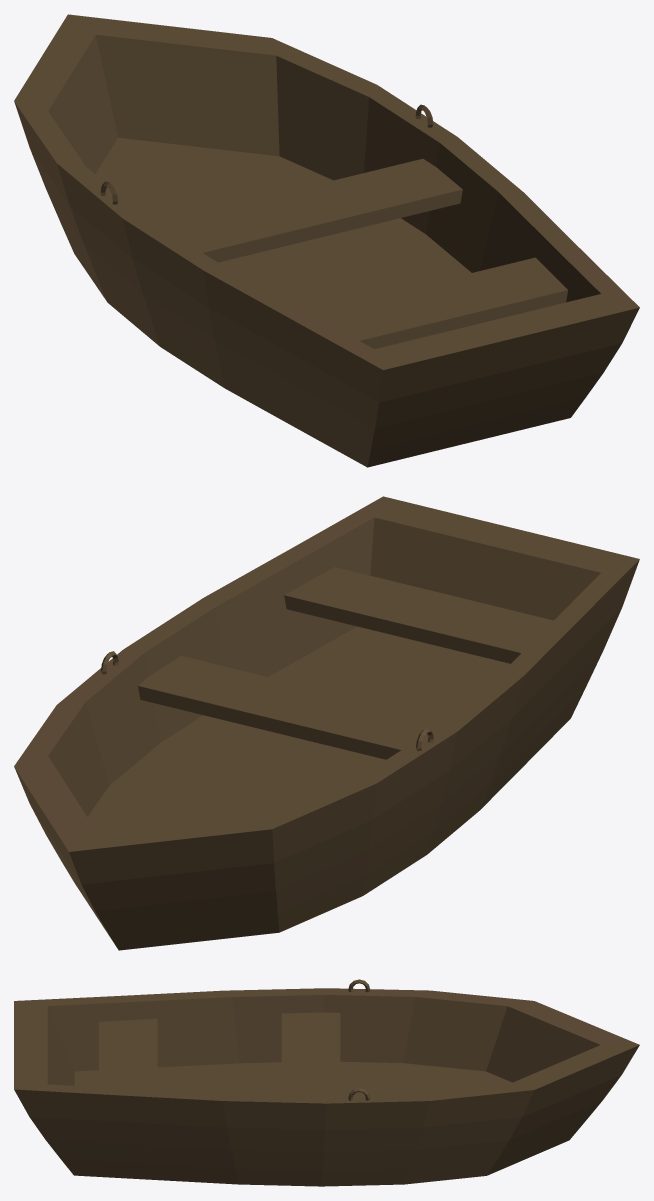
Rendered from RowBoat.fbx.
3 renders of one model, top to bottom at view 1: azimuth 30°, elevation 25°; view 2: azimuth 150°, elevation 25°; view 3: azimuth 270°, elevation 25°, orthographic. The views are drawn at different scales.
Visible parts, largest first — view 1: RowBoat; view 2: RowBoat; view 3: RowBoat.
Boxes of the visible parts, x1,y1,x2,y2 form: RowBoat: [14, 14, 639, 467]; RowBoat: [14, 496, 639, 950]; RowBoat: [14, 979, 639, 1186].
Size of the model in its own units: 299 by 129 by 686.
